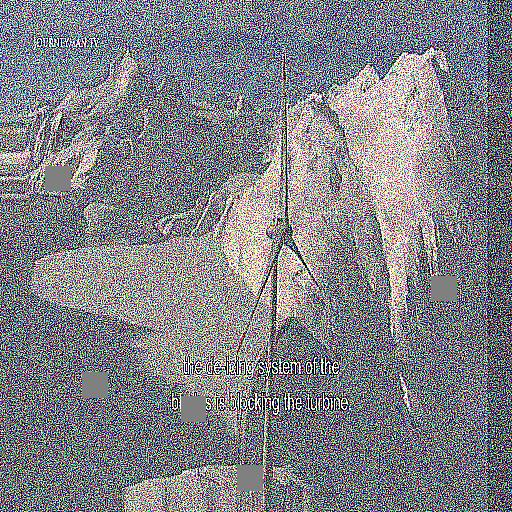wind turbine: (219, 50, 323, 460)
